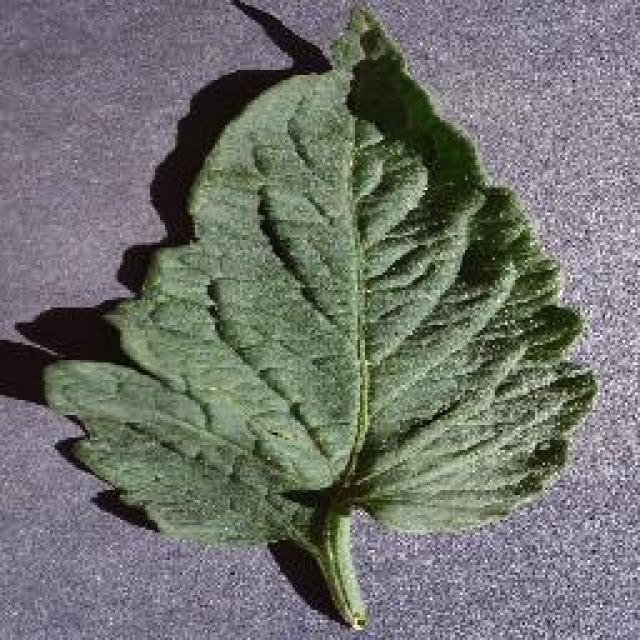Tomato healthy leaf: (46, 25, 576, 613)
